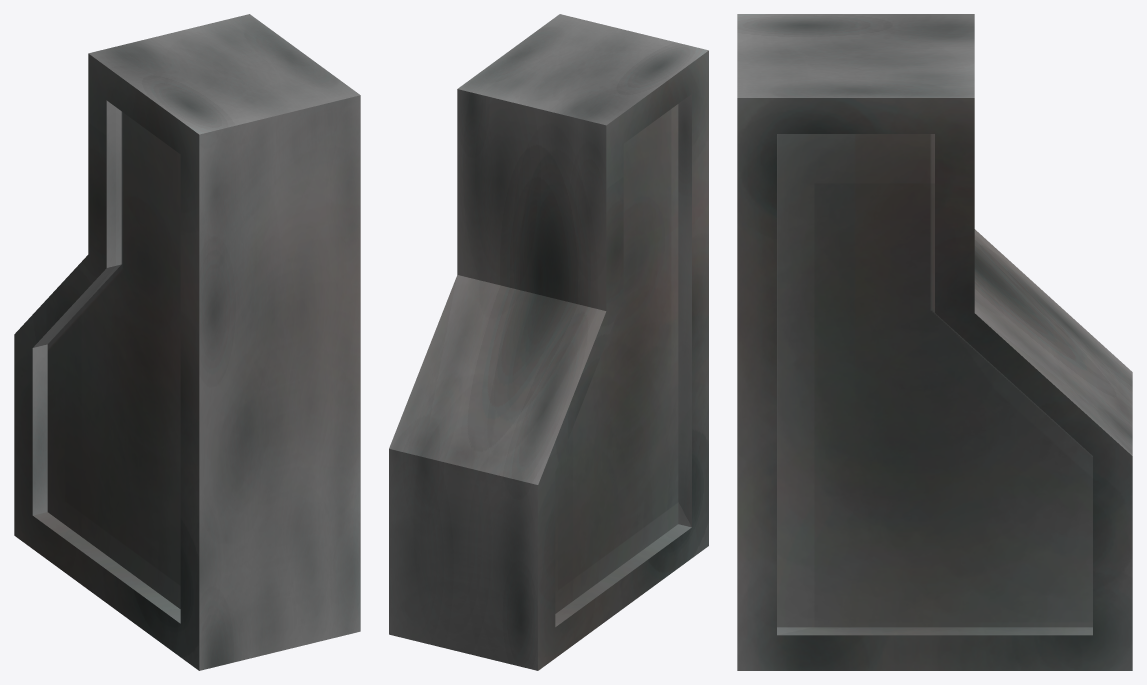
The model's file is door1.glb.
3 renders of one model, left to right at view 1: azimuth 30°, elevation 25°; view 2: azimuth 150°, elevation 25°; view 3: azimuth 270°, elevation 25°, orthographic. The views are drawn at different scales.
Visible parts, largest first — view 1: Cube.001; view 2: Cube.001; view 3: Cube.001.
Part boxes in pixels (x1,y1,x2,y2): Cube.001: [14, 14, 360, 670]; Cube.001: [389, 14, 708, 670]; Cube.001: [737, 14, 1132, 670].
Size of the model in its own units: 0.6299 by 2 by 1.25.
Materials: 1 (1 with a texture image).
